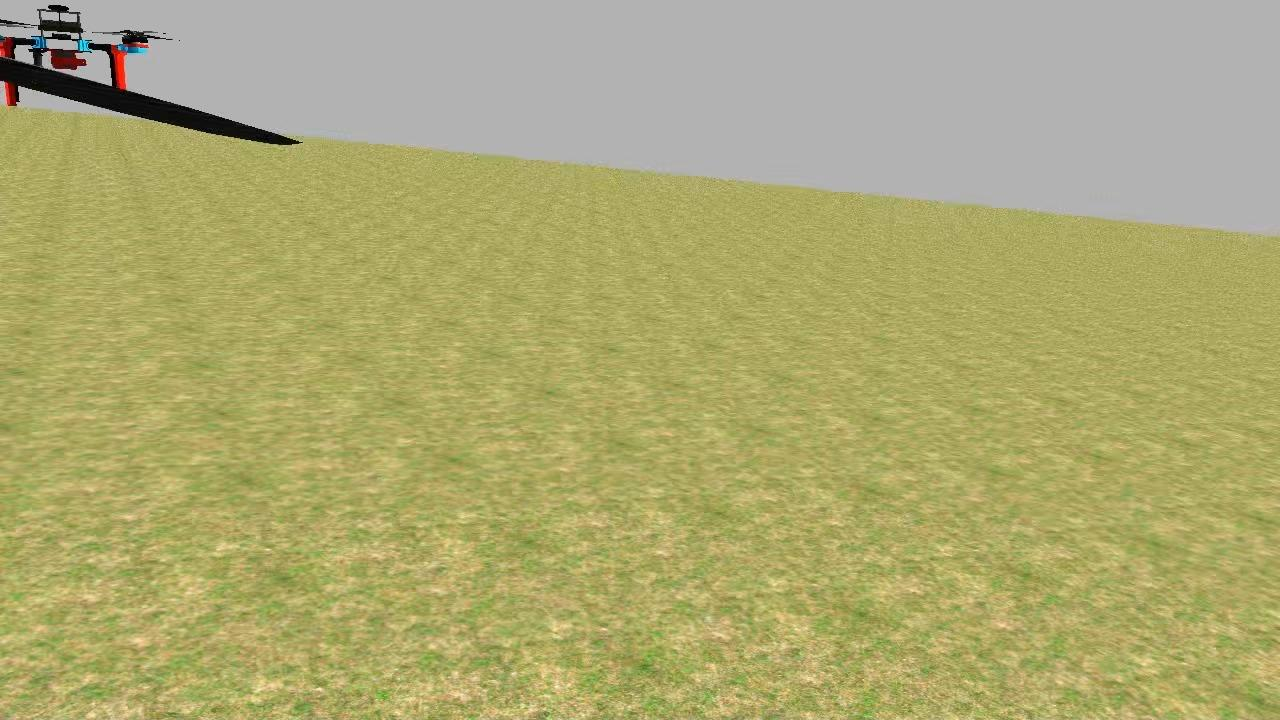UAV: (0, 0, 168, 121)
